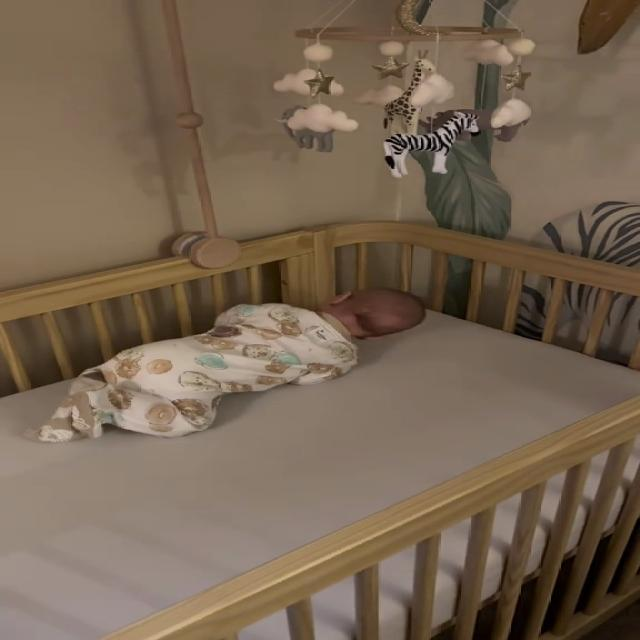baby: (31, 279, 432, 448)
